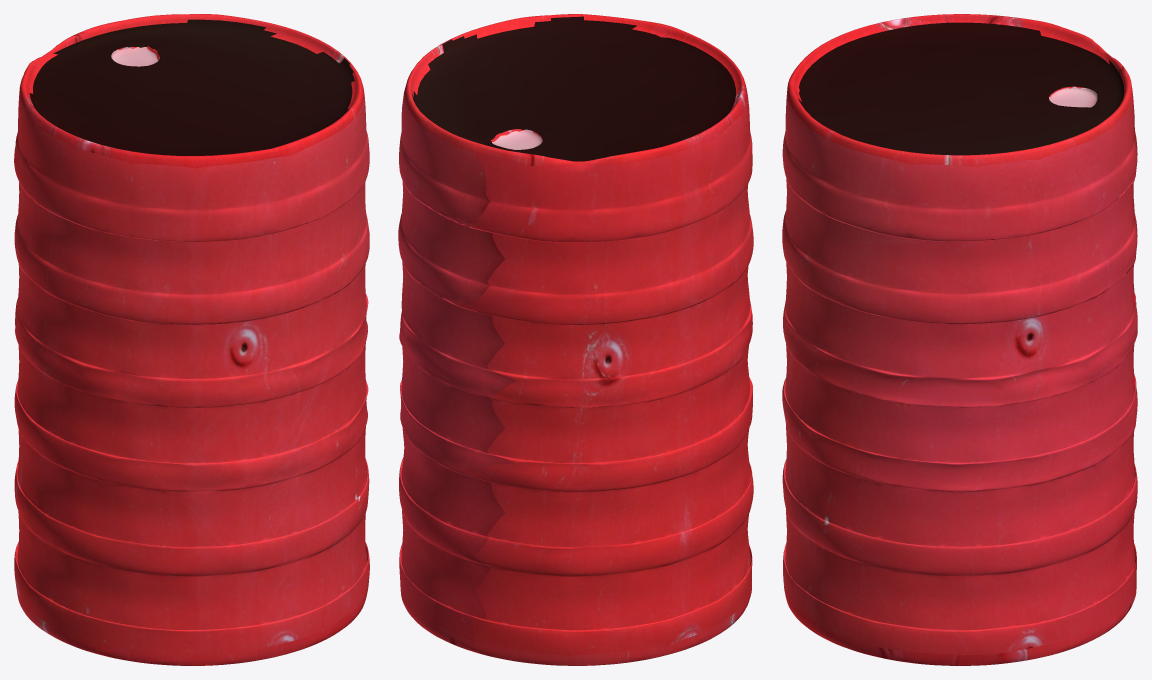
File: varil.fbx
The picture shows the model from 3 angles, left to right: view 1: azimuth 30°, elevation 25°; view 2: azimuth 150°, elevation 25°; view 3: azimuth 270°, elevation 25°; orthographic projection.
Visible parts, largest first — view 1: Cylinder; view 2: Cylinder; view 3: Cylinder.
Boxes of the visible parts, x1=… form: Cylinder: x1=14, y1=14, x2=369, y2=665; Cylinder: x1=398, y1=14, x2=753, y2=665; Cylinder: x1=782, y1=14, x2=1137, y2=665.
Bounding box in the file's own units: 203 × 319 × 202.
